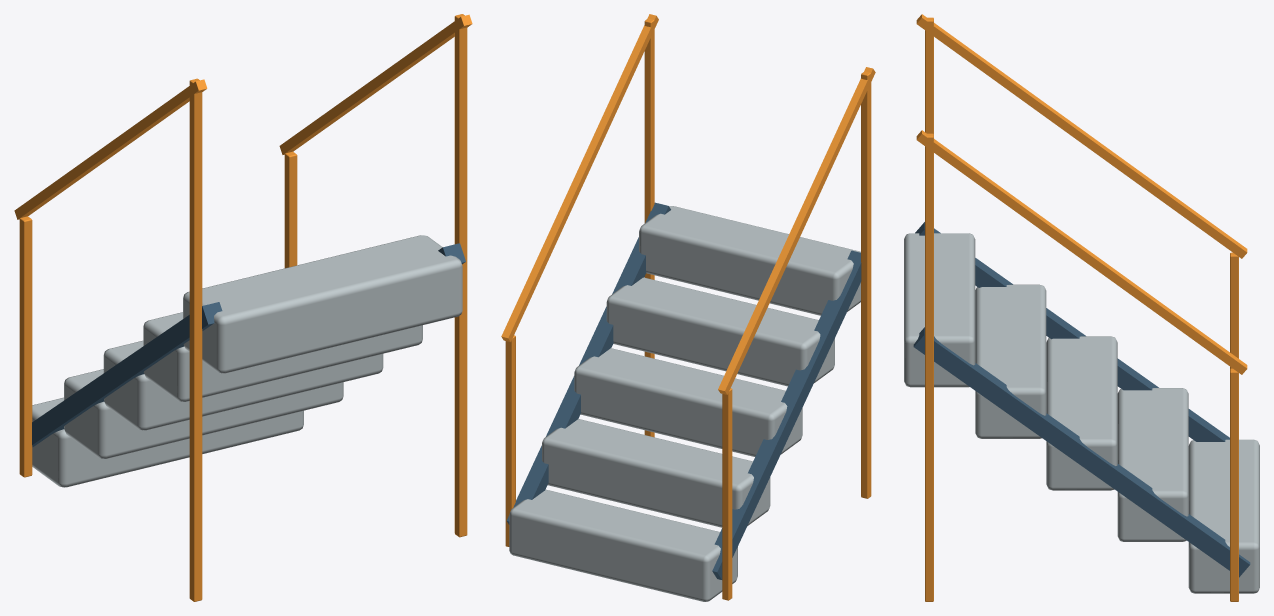
File: container-inspection-and-customs-yard-container-inspec-fe36616c__29311.glb
The picture shows the model from 3 angles, left to right: view 1: azimuth 30°, elevation 25°; view 2: azimuth 150°, elevation 25°; view 3: azimuth 270°, elevation 25°; orthographic projection. The views are drawn at different scales.
Parts seen in each view (by area): view 1: container-inspection-and-customs-yard-container-step-stair; view 2: container-inspection-and-customs-yard-container-step-stair; view 3: container-inspection-and-customs-yard-container-step-stair.
Part boxes in pixels (x1,y1,x2,y2): container-inspection-and-customs-yard-container-step-stair: [14, 14, 472, 601]; container-inspection-and-customs-yard-container-step-stair: [501, 14, 875, 601]; container-inspection-and-customs-yard-container-step-stair: [904, 14, 1259, 601].
Bounding box in the file's own units: 1.12 × 2.03 × 1.4.
